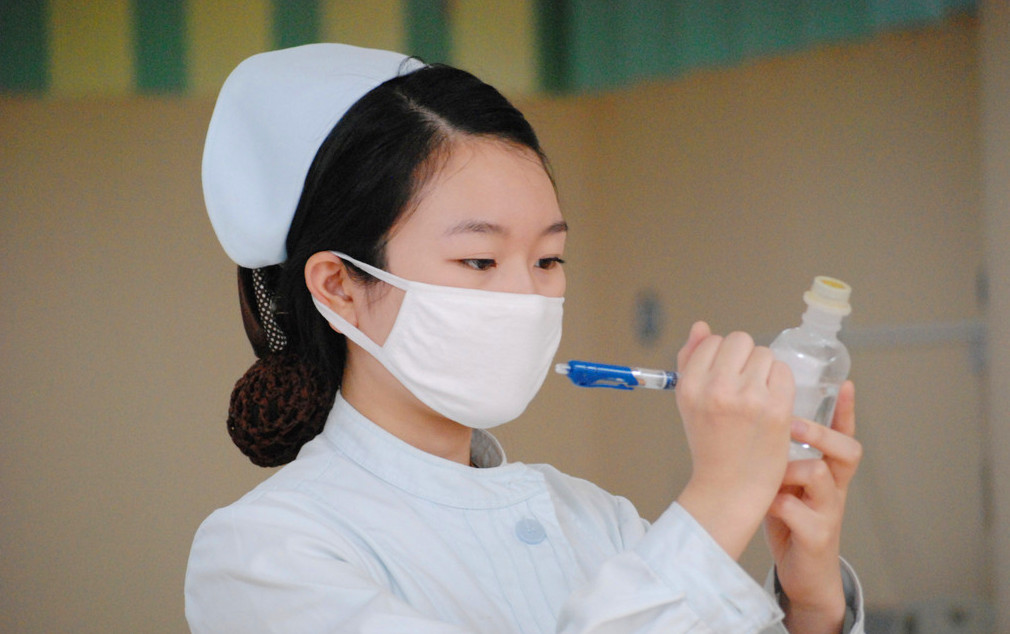face_mask: (366, 152, 568, 427)
